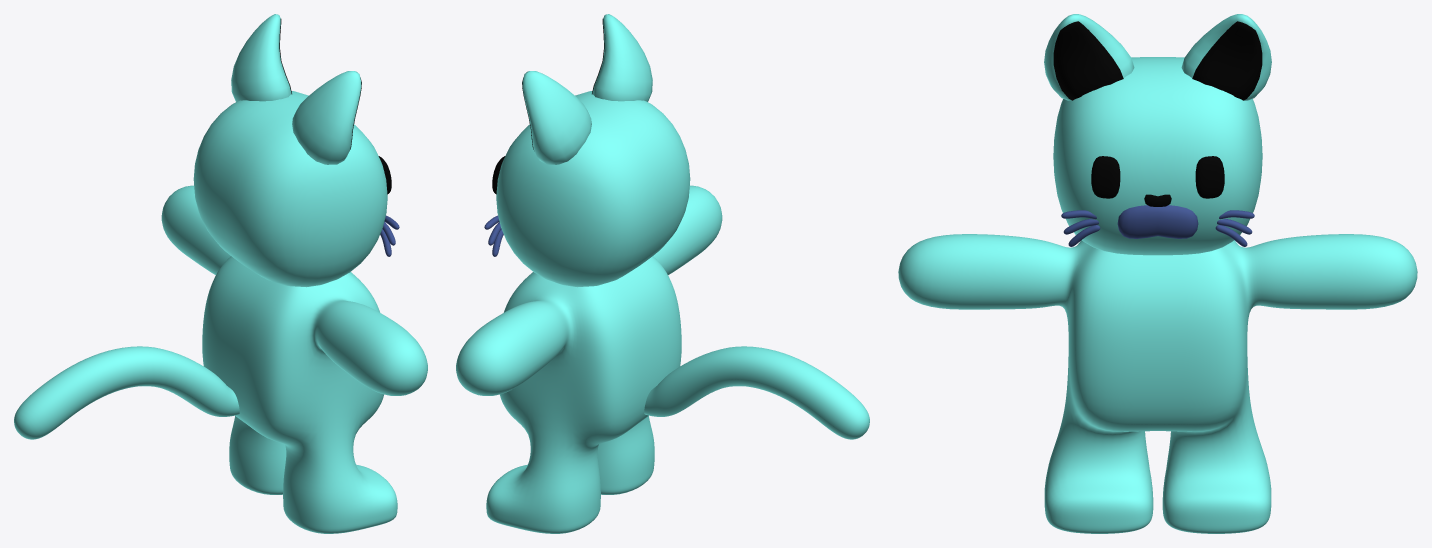
The model's file is GatoAzul.glb.
3 renders of one model, left to right at view 1: azimuth 30°, elevation 25°; view 2: azimuth 150°, elevation 25°; view 3: azimuth 270°, elevation 25°, orthographic. The views are drawn at different scales.
Visible parts, largest first — view 1: cuerpo, cabeza, Cube, orejas; view 2: cuerpo, cabeza, Cube, orejas; view 3: cuerpo, cabeza, orejas.001, orejas, boca, ojos.
Part boxes in pixels (x1,y1,x2,y2): cuerpo: [161, 185, 427, 533]; cabeza: [193, 91, 387, 287]; Cube: [14, 346, 239, 439]; orejas: [231, 14, 361, 164]; cuerpo: [456, 185, 722, 533]; cabeza: [496, 91, 690, 287]; Cube: [644, 346, 869, 439]; orejas: [522, 14, 652, 164]; cuerpo: [898, 234, 1417, 533]; cabeza: [1053, 57, 1262, 255]; orejas.001: [1053, 21, 1262, 100]; orejas: [1044, 14, 1271, 100]; boca: [1117, 205, 1198, 238]; ojos: [1091, 156, 1224, 198].
Bounding box in the file's own units: 3.12 × 3.84 × 3.61.
